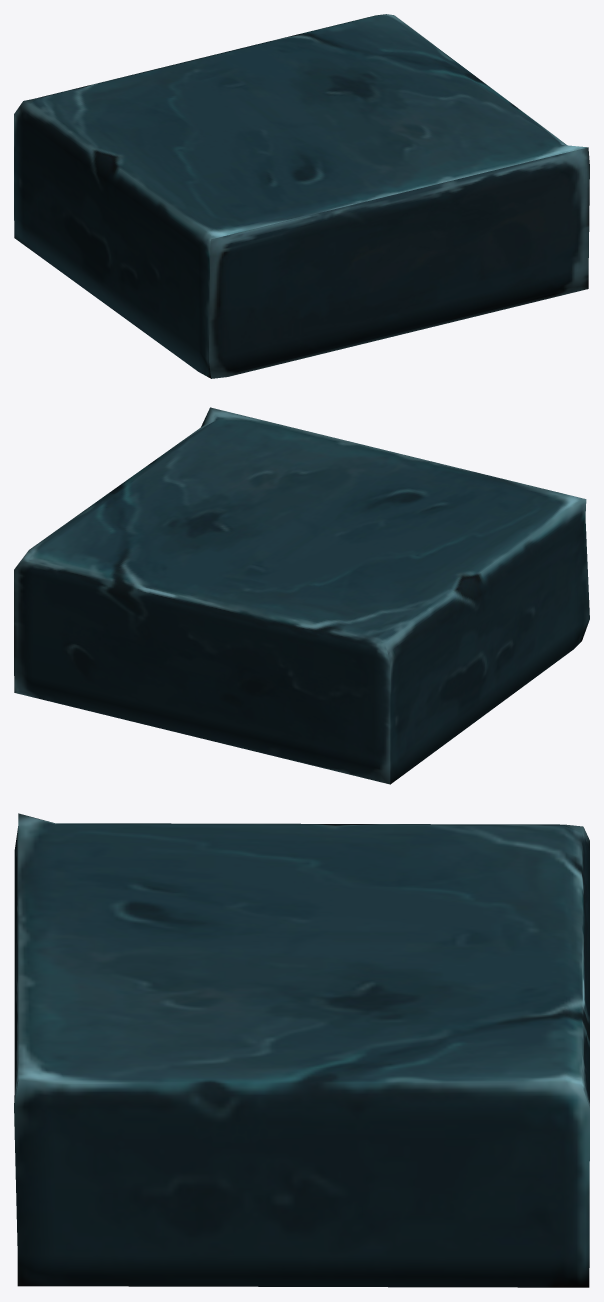
File: dark edge brick please.fbx
3 views of the same model, one above another, from view 1: azimuth 30°, elevation 25°; view 2: azimuth 150°, elevation 25°; view 3: azimuth 270°, elevation 25° (orthographic). The views are drawn at different scales.
Parts seen in each view (by area): view 1: pCube1; view 2: pCube1; view 3: pCube1.
Boxes of the visible parts, <box> form: pCube1: <box>14,14,589,378</box>; pCube1: <box>14,407,589,784</box>; pCube1: <box>14,813,589,1287</box>.
Size of the model in its own units: 18.42 by 6.59 by 16.64.
